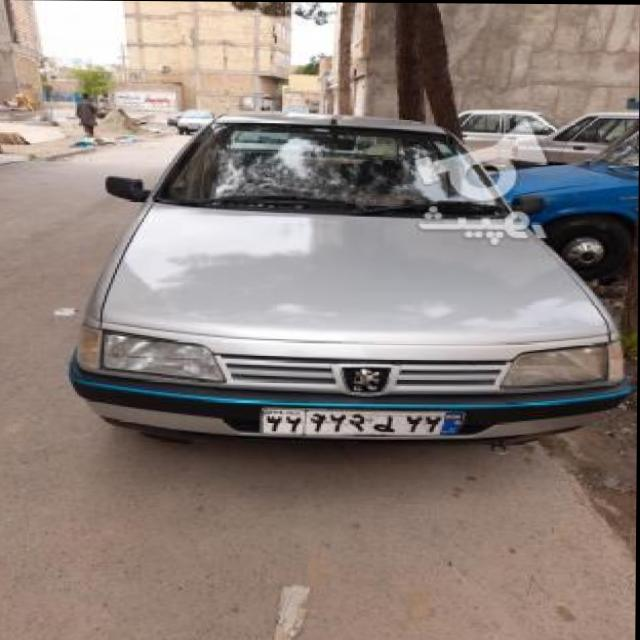licence: (264, 403, 469, 439)
